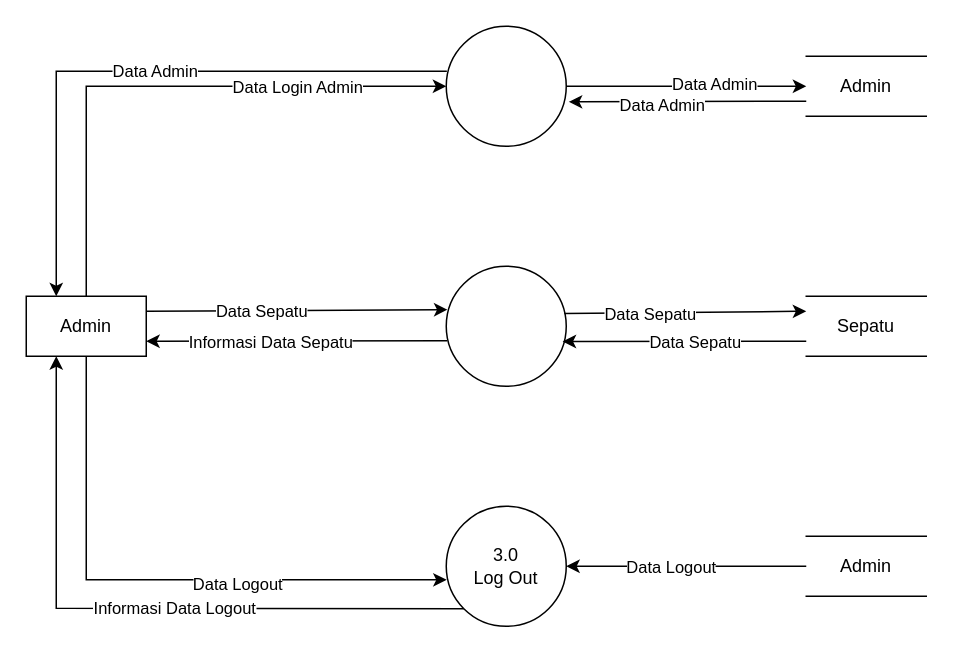
This 953x653 diagram has some shape labels left out. Each missing label, with the centre of its shape:
1.0 Autentifikasi Pengguna: pixel 505 85
2.0 Manajemen Data Sepatu: pixel 505 325
